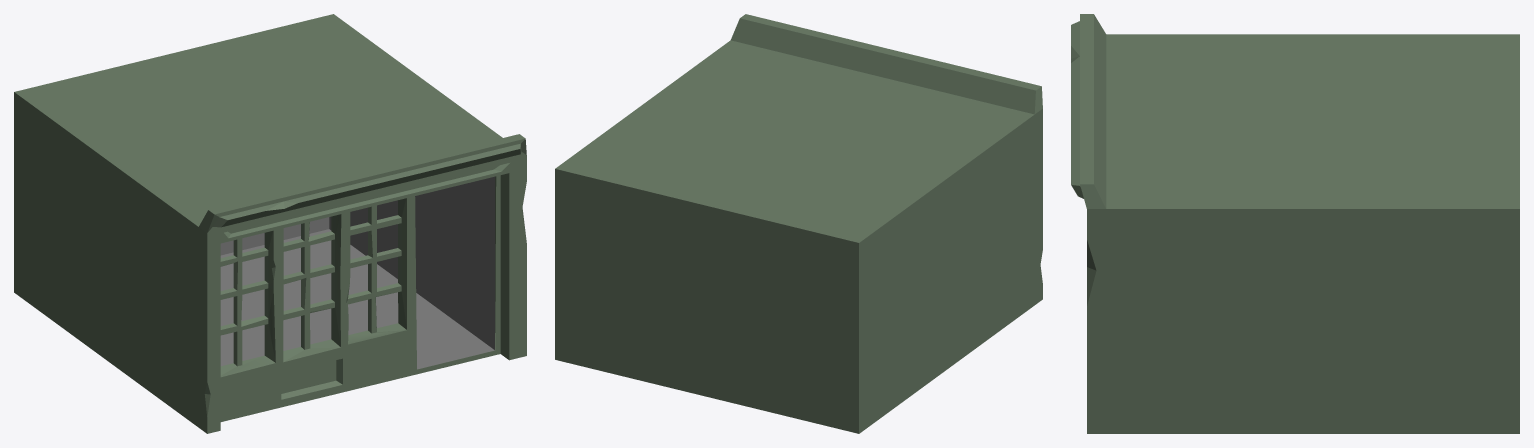
Rendered from SM11_Bld_Shop_02.FBX.
The picture shows the model from 3 angles, left to right: view 1: azimuth 30°, elevation 25°; view 2: azimuth 150°, elevation 25°; view 3: azimuth 270°, elevation 25°; orthographic projection. The views are drawn at different scales.
Visible parts, largest first — view 1: SM11_Bld_Shop_02; view 2: SM11_Bld_Shop_02; view 3: SM11_Bld_Shop_02.
Boxes of the visible parts, x1,y1,x2,y2 form: SM11_Bld_Shop_02: [14, 14, 526, 433]; SM11_Bld_Shop_02: [555, 14, 1042, 433]; SM11_Bld_Shop_02: [1071, 14, 1519, 433].
Bounding box in the file's own units: 500 × 330 × 543.
1 material, 1 textured.
